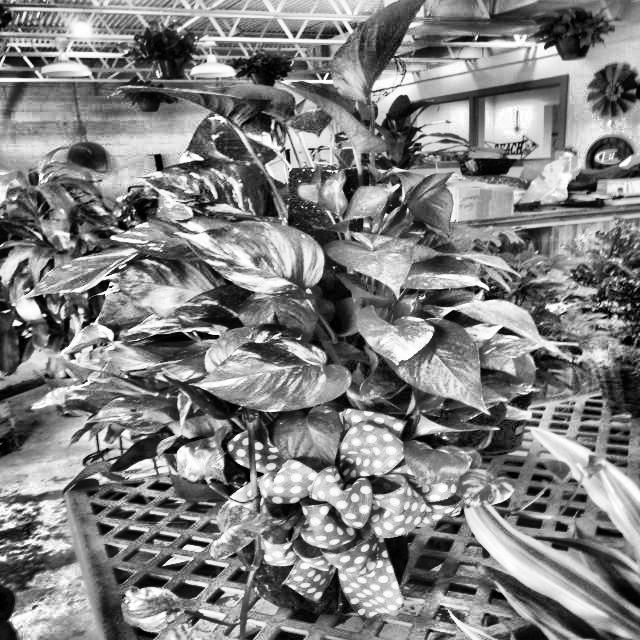plants: (114, 118, 518, 396), (458, 434, 640, 640), (528, 8, 610, 62), (125, 26, 198, 80)
